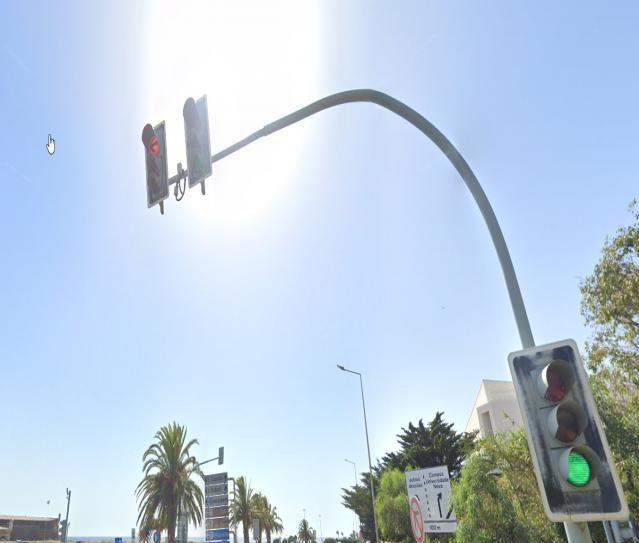green_light: (508, 338, 630, 522)
red_light: (141, 121, 169, 208)
